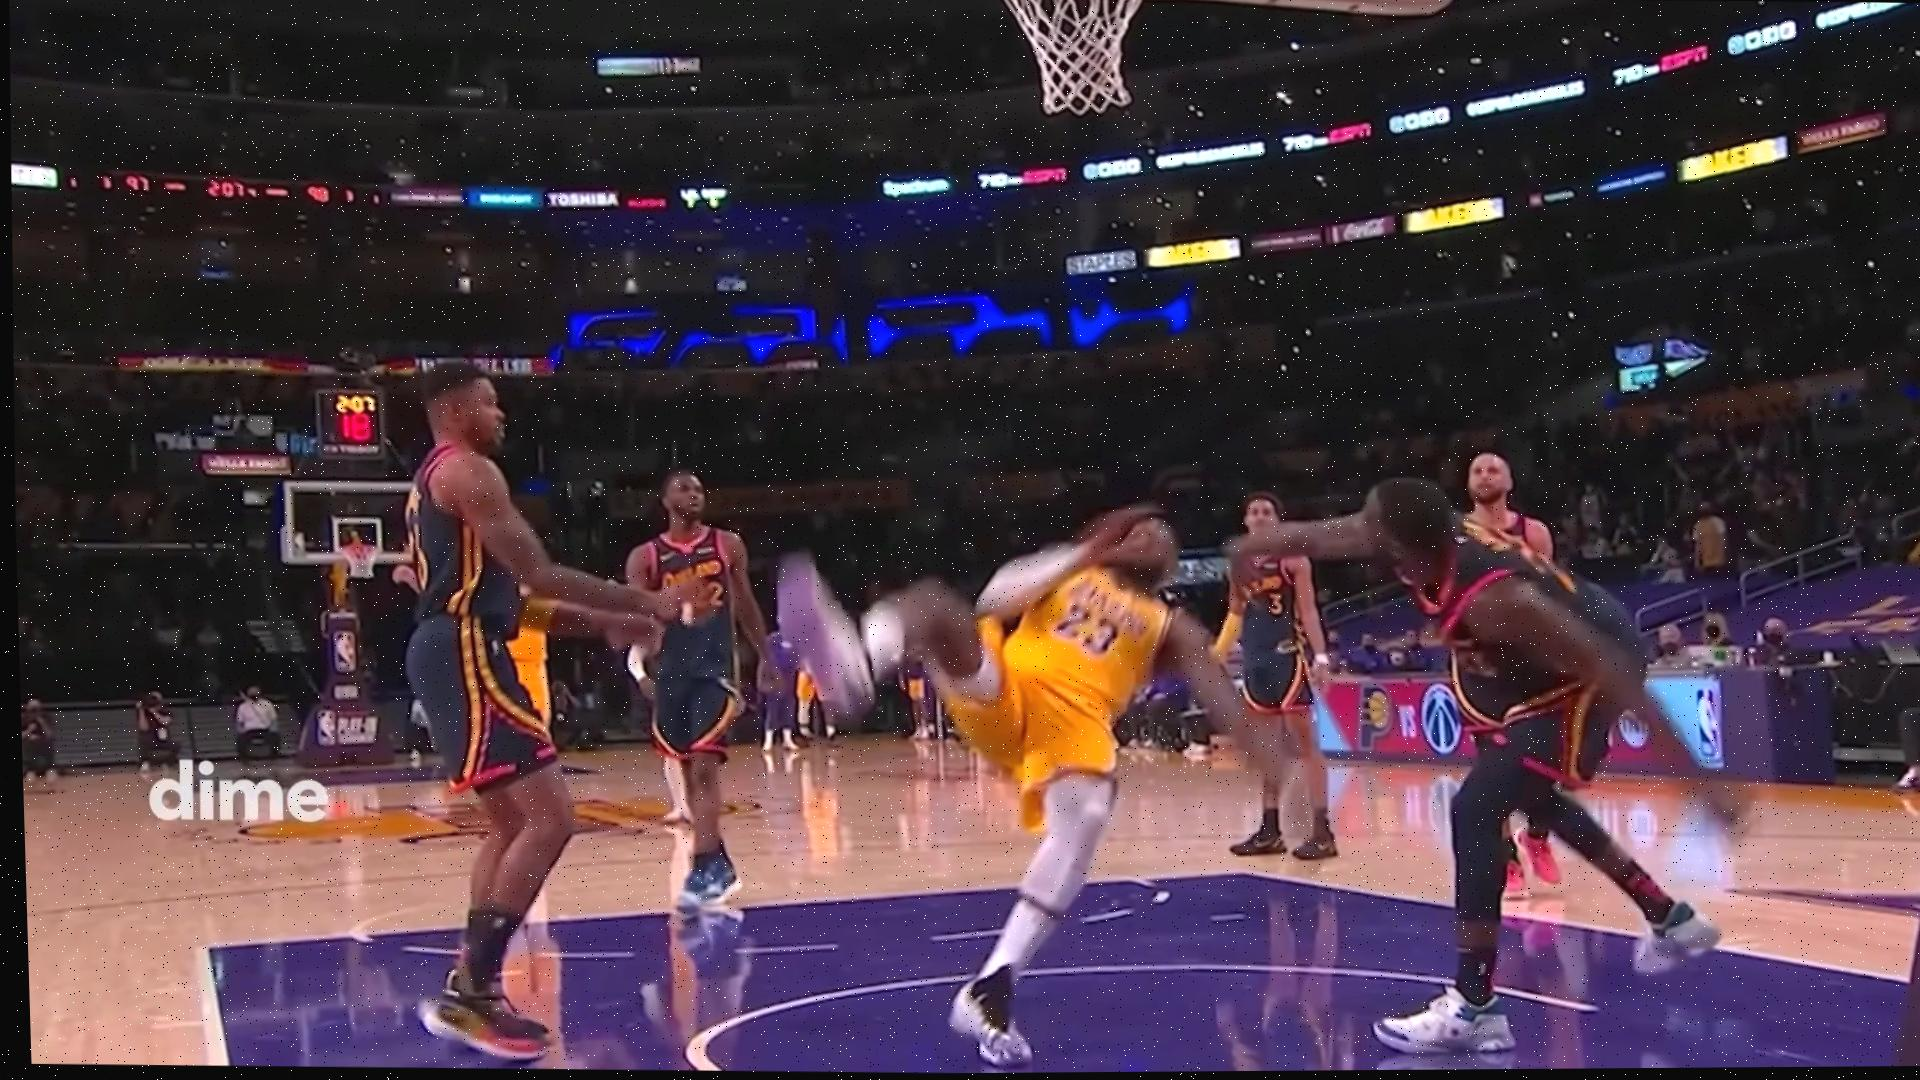no_foul: (820, 447, 1708, 1063)
